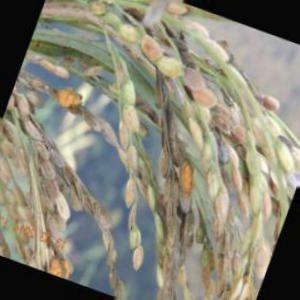Leaf_Scald: (46, 255, 79, 279), (178, 157, 193, 208), (136, 37, 162, 63), (193, 82, 214, 114), (54, 86, 81, 109)
